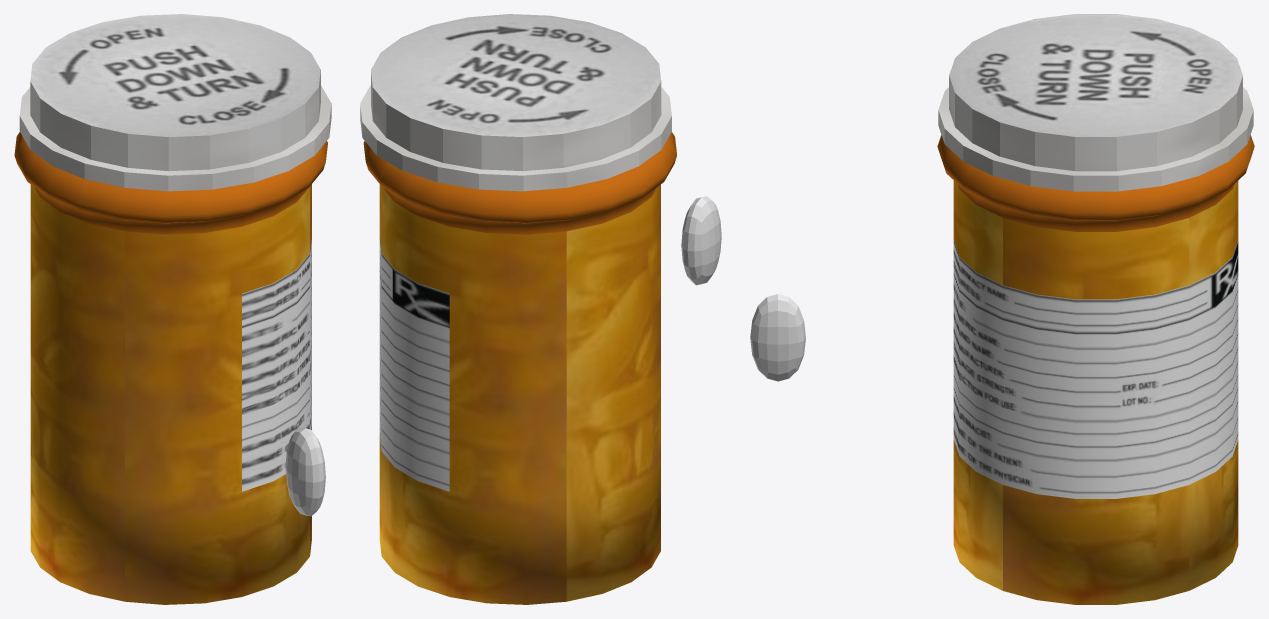
Rendered from pillBottle_GWJ99.glb.
3 renders of one model, left to right at view 1: azimuth 30°, elevation 25°; view 2: azimuth 150°, elevation 25°; view 3: azimuth 270°, elevation 25°, orthographic.
Parts seen in each view (by area): view 1: pillBottle, pillBottleCap, Capsule; view 2: pillBottle, pillBottleCap, Capsule; view 3: pillBottle, pillBottleCap, Capsule.
Boxes of the visible parts, left/top/right/bottom form: pillBottle: left=14, top=132, right=327, bottom=604; pillBottleCap: left=19, top=14, right=331, bottom=191; Capsule: left=285, top=427, right=325, bottom=516; pillBottle: left=363, top=132, right=676, bottom=604; pillBottleCap: left=360, top=14, right=671, bottom=191; Capsule: left=681, top=196, right=721, bottom=285; pillBottle: left=937, top=135, right=1254, bottom=604; pillBottleCap: left=938, top=14, right=1253, bottom=191; Capsule: left=750, top=294, right=805, bottom=381.
Bounding box in the file's own units: 2.24 × 3.66 × 3.54.
2 materials, 2 textured.
